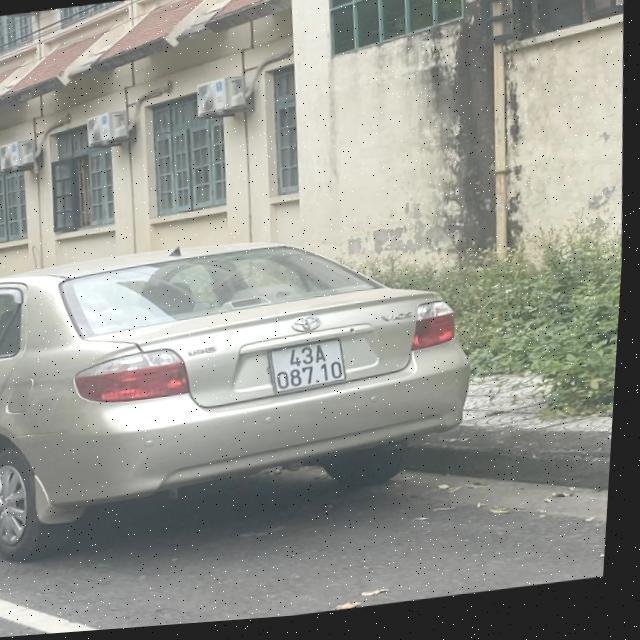car: (0, 203, 491, 571)
plate: (261, 330, 355, 400)
